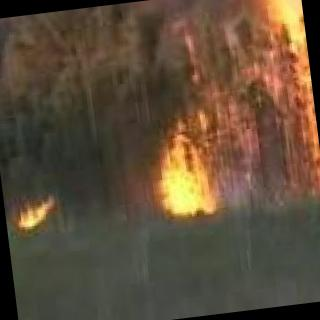fire: (142, 102, 231, 222), (269, 0, 320, 191), (11, 188, 60, 235)
